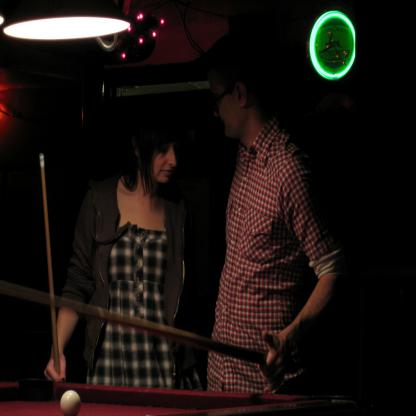Ball: (60, 390, 82, 416)
